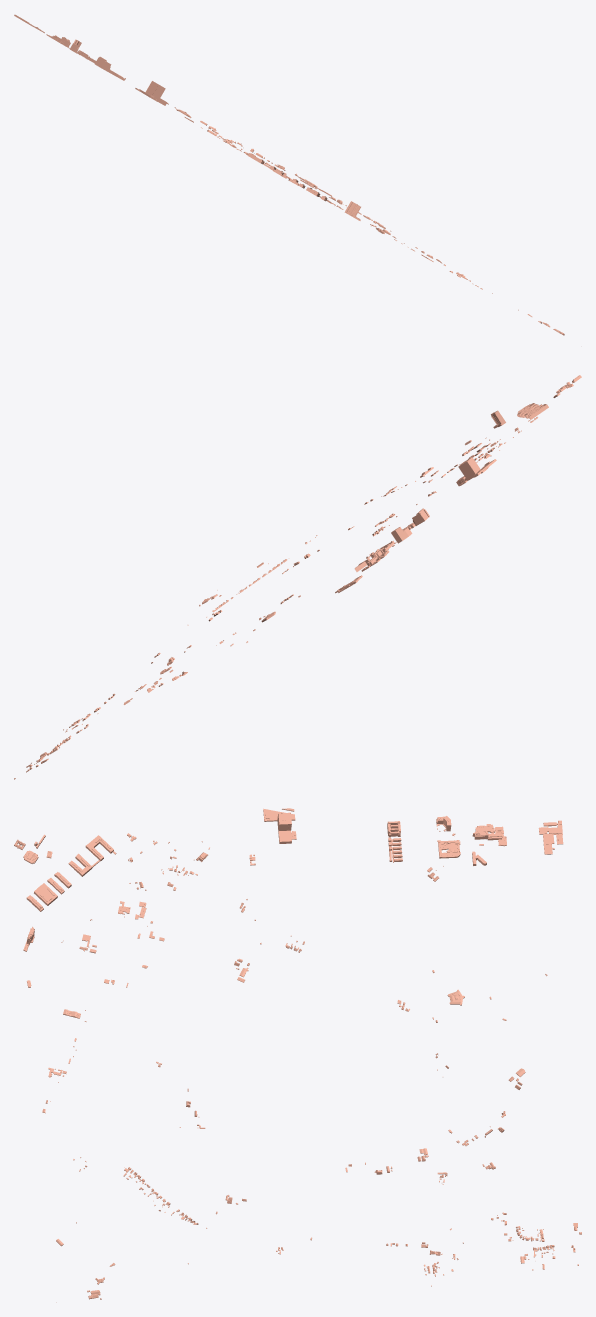
The picture shows the model from 3 angles, top to bottom: view 1: azimuth 30°, elevation 25°; view 2: azimuth 150°, elevation 25°; view 3: azimuth 270°, elevation 25°; orthographic projection. The views are drawn at different scales.
Size of the model in its own units: 2025 by 1510 by 2522.
